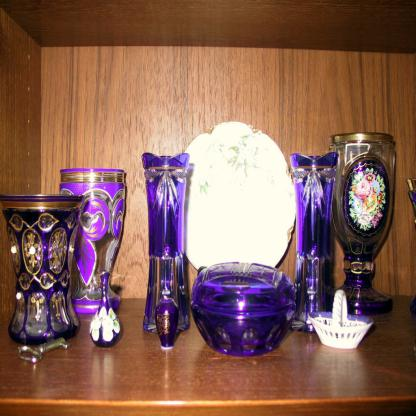vase: (0, 192, 86, 346), (327, 130, 395, 319), (58, 166, 126, 312), (140, 151, 190, 332), (288, 150, 334, 330), (88, 268, 121, 350)
